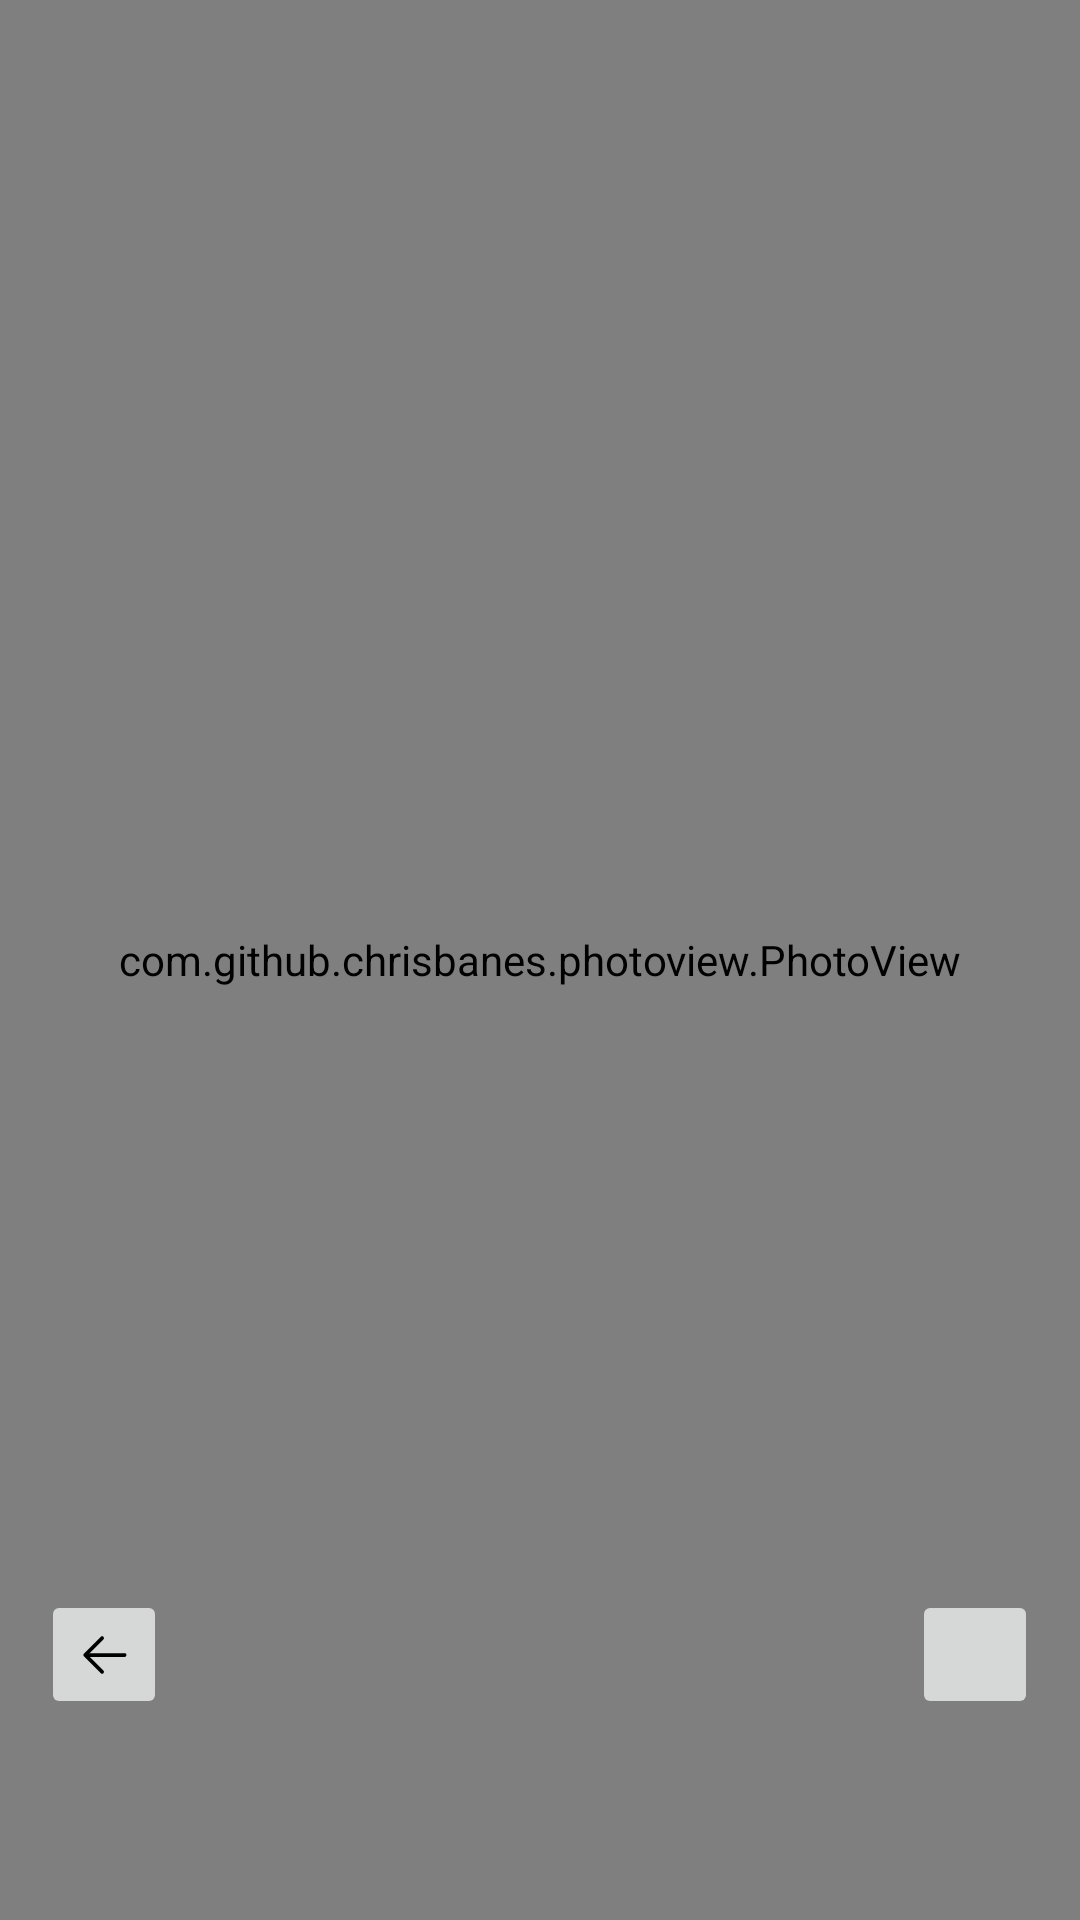

Where to tap for icons on this 1080×1920 app screen, as point (x, y):
back: point (104, 1654)
